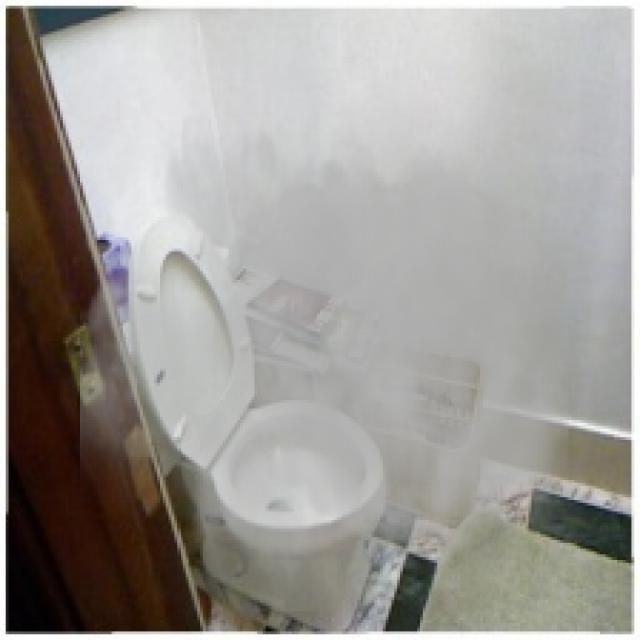Smoke: (80, 63, 600, 612)
